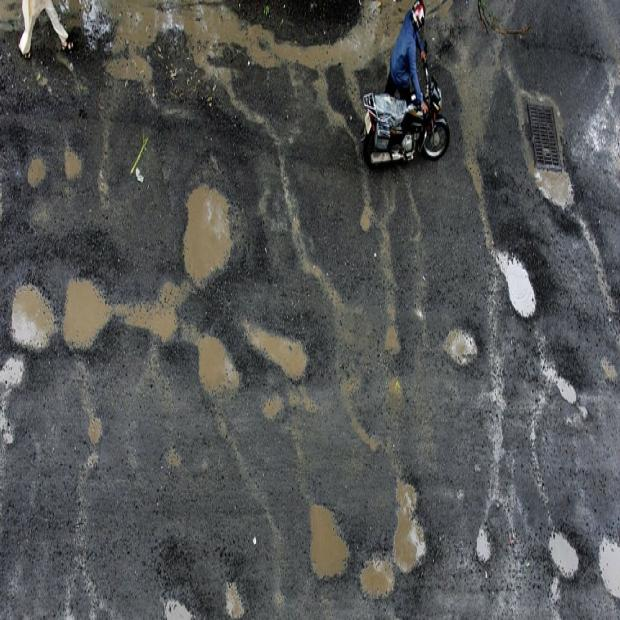lubang: (62, 279, 239, 393), (517, 89, 573, 208), (183, 185, 232, 284), (156, 536, 207, 619), (379, 216, 402, 398), (244, 321, 307, 379), (541, 354, 588, 422), (393, 480, 426, 573), (310, 505, 348, 578), (495, 250, 536, 317), (12, 286, 54, 350), (0, 357, 24, 468), (222, 545, 258, 616), (547, 527, 578, 578), (361, 554, 395, 598), (598, 535, 619, 599), (444, 329, 477, 364), (83, 417, 102, 475), (475, 513, 490, 562), (63, 145, 82, 180), (27, 157, 49, 187)
